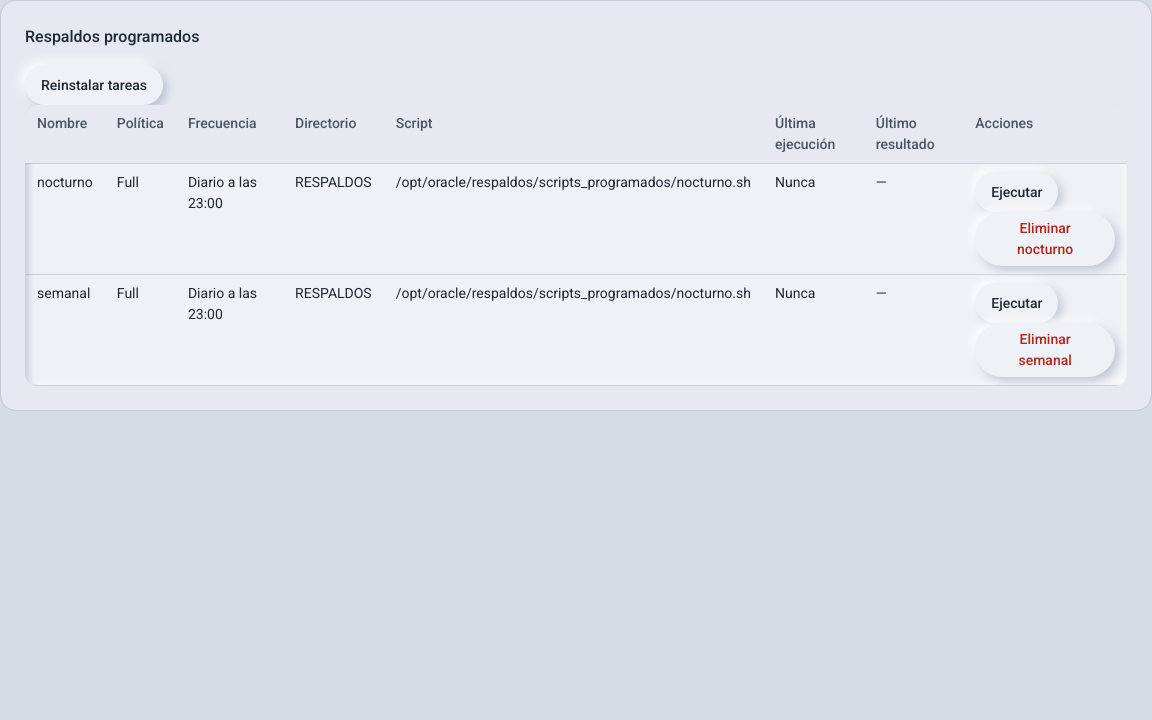
Test: botón Ejecutar › mientras corre muestra «Ejecutando…» y deshabilita todos los botones Ejecutar
Click the button with aria-label "Ejecutar nocturno".
click(1017, 192)  # box [975,172,1058,212]
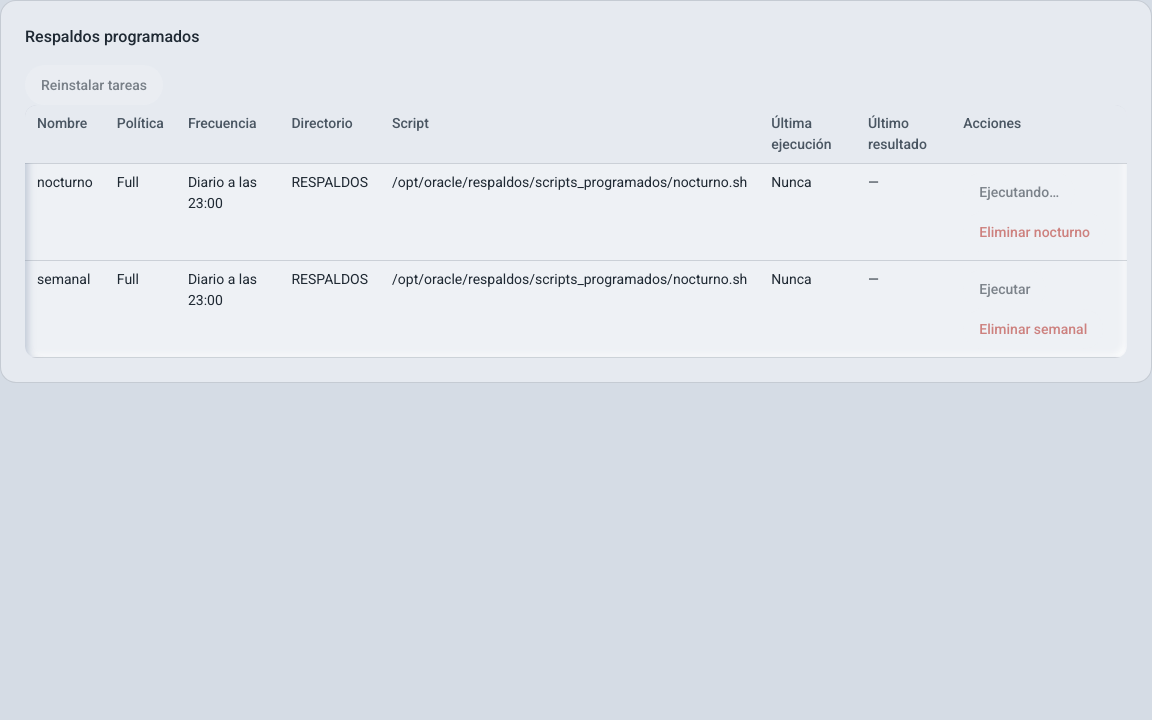
Result: the button with aria-label "Ejecutar " is disabled at [963,172,1075,212]
Result: the button "Ejecutar " is disabled
Click the button "Ejecutar ".
click(1005, 289)  # box [963,269,1046,309]
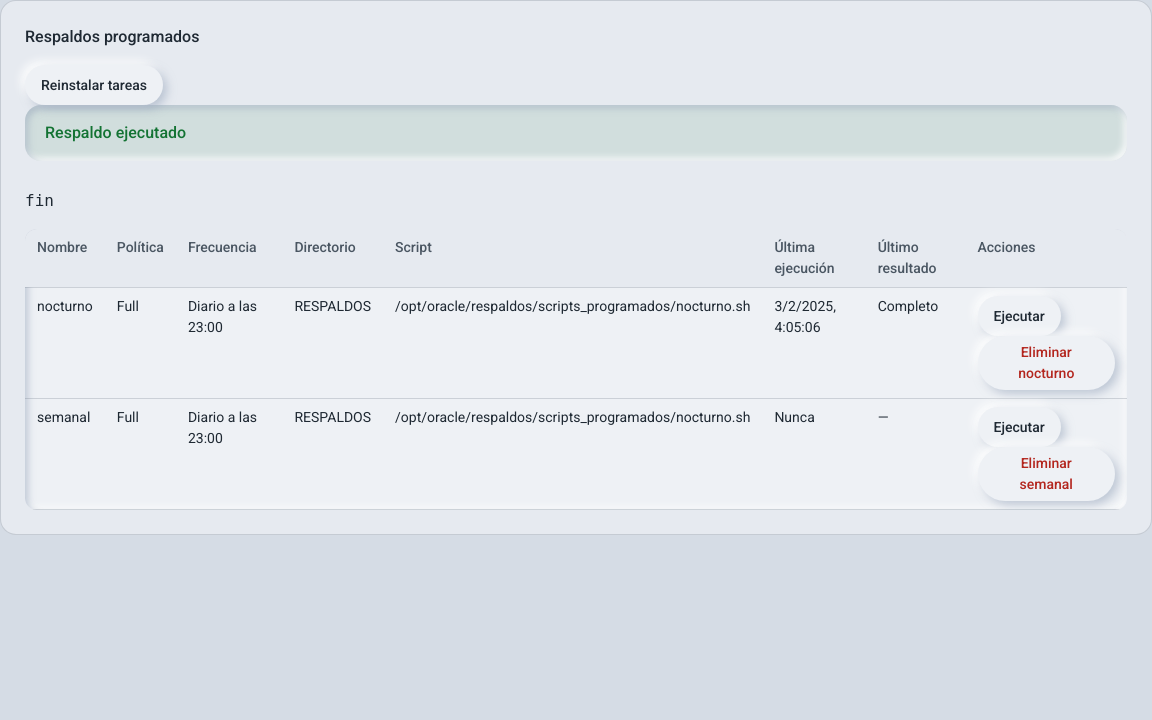
Result: the button "Ejecutando…" is gone
Result: the button "Ejecutar " in the row of "3/2/2025, 4:05:06" is enabled at [978,296,1061,336]
Result: the button "Ejecutar " in the row of "Nunca" is enabled at [978,407,1061,447]
